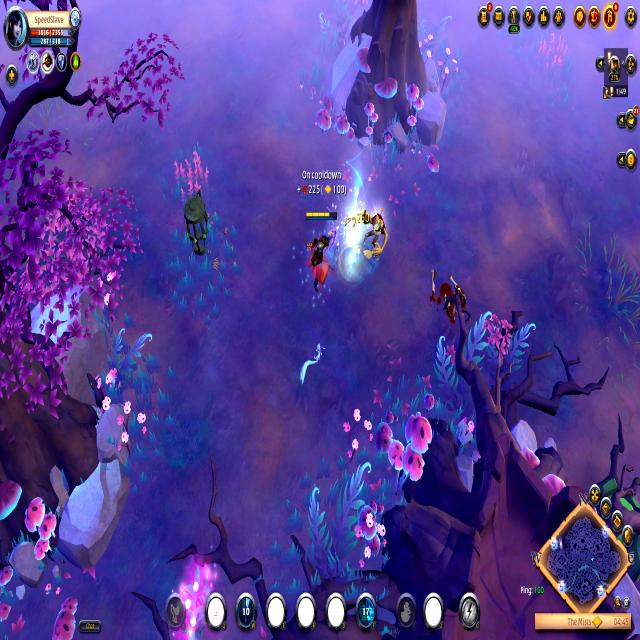hide: (175, 560, 220, 640)
ore: (344, 205, 394, 271)
red: (304, 208, 336, 271)
